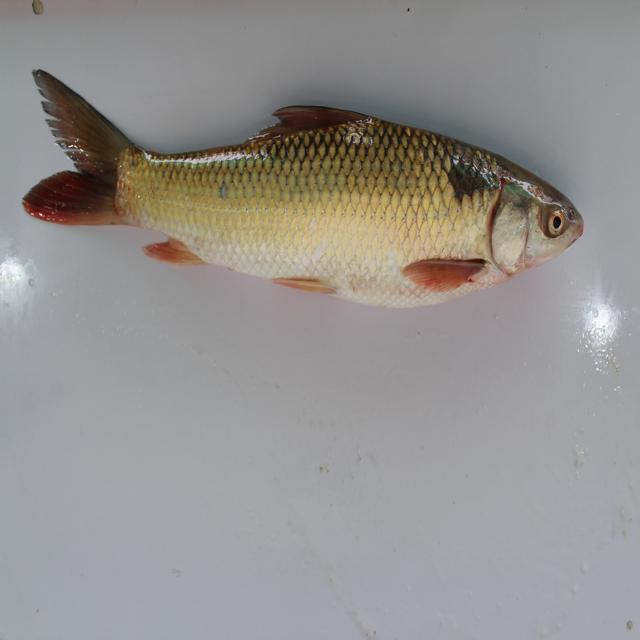Mori: (22, 50, 594, 313)
